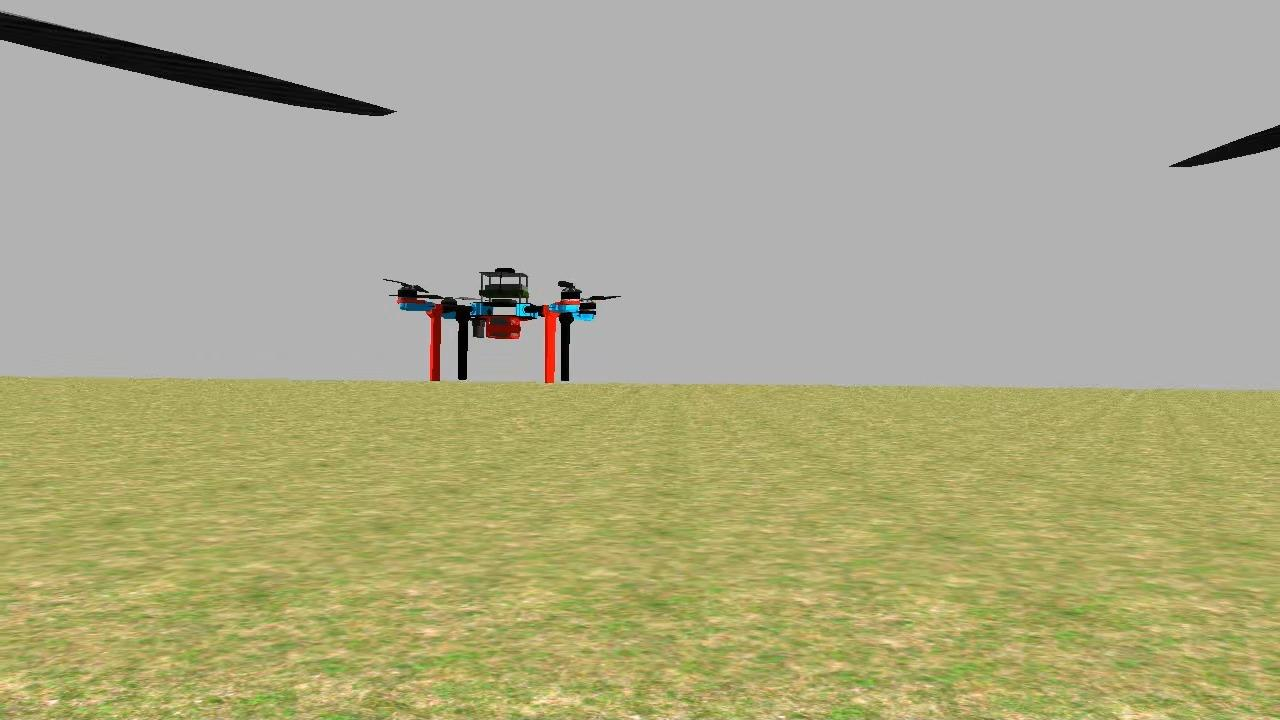UAV: (392, 262, 608, 394)
